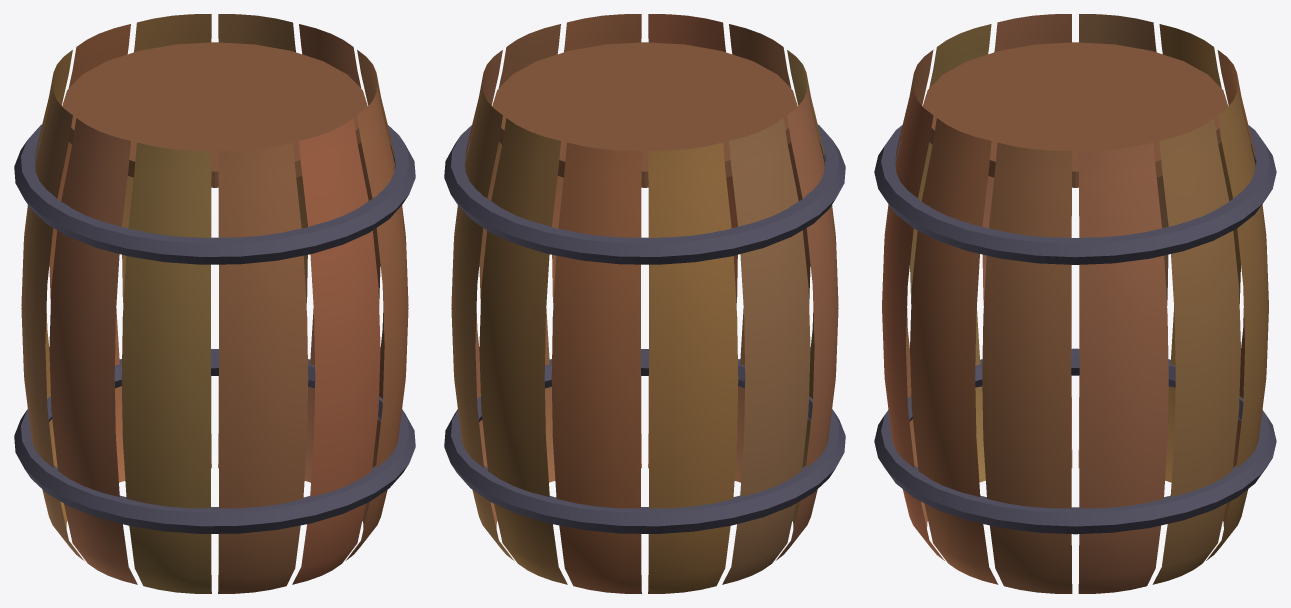
Rendered from barrel.glb.
3 views of the same model, side by side, from view 1: azimuth 30°, elevation 25°; view 2: azimuth 150°, elevation 25°; view 3: azimuth 270°, elevation 25° (orthographic).
Parts seen in each view (by area): view 1: stave8, stave7, lid, stave6, stave9, hoop88, hoop22, stave10, stave5, stave3, stave0, stave1 (+3 smaller); view 2: stave3, stave4, lid, stave5, stave2, hoop88, hoop22, stave1, stave6, stave8, stave11, stave10 (+3 smaller); view 3: stave0, stave11, lid, stave1, stave10, hoop88, hoop22, stave2, stave9, stave4, stave7, stave5 (+3 smaller).
Boxes of the visible parts, box(x1,y1,x2,y2) form: stave8: box(218, 142, 308, 593); stave7: box(121, 142, 211, 593); lid: box(62, 42, 367, 187); stave6: box(49, 118, 137, 584); stave9: box(292, 118, 380, 584); hoop88: box(14, 124, 415, 264); hoop22: box(14, 349, 415, 533); stave10: box(346, 85, 408, 560); stave5: box(21, 85, 83, 560); stave3: box(49, 24, 130, 482); stave0: box(299, 24, 380, 482); stave1: box(218, 14, 307, 468); stave3: box(551, 142, 641, 593); stave4: box(648, 142, 738, 593); lid: box(492, 42, 797, 187); stave5: box(722, 118, 810, 584); stave2: box(479, 118, 567, 584); hoop88: box(444, 124, 845, 264); hoop22: box(444, 349, 845, 533); stave1: box(451, 85, 513, 560); stave6: box(776, 85, 838, 560); stave8: box(729, 24, 810, 482); stave11: box(479, 24, 560, 482); stave10: box(552, 14, 641, 468); stave0: box(1078, 142, 1168, 593); stave11: box(982, 142, 1072, 593); lid: box(922, 42, 1228, 187); stave1: box(1152, 118, 1240, 584); stave10: box(910, 118, 998, 584); hoop88: box(874, 125, 1276, 264); hoop22: box(874, 348, 1276, 534); stave2: box(1206, 84, 1268, 560); stave9: box(882, 84, 944, 560); stave4: box(1159, 24, 1240, 482); stave7: box(910, 24, 991, 482); stave5: box(1078, 14, 1168, 467).
Size of the model in its own units: 0.894 by 1.1 by 0.894.
